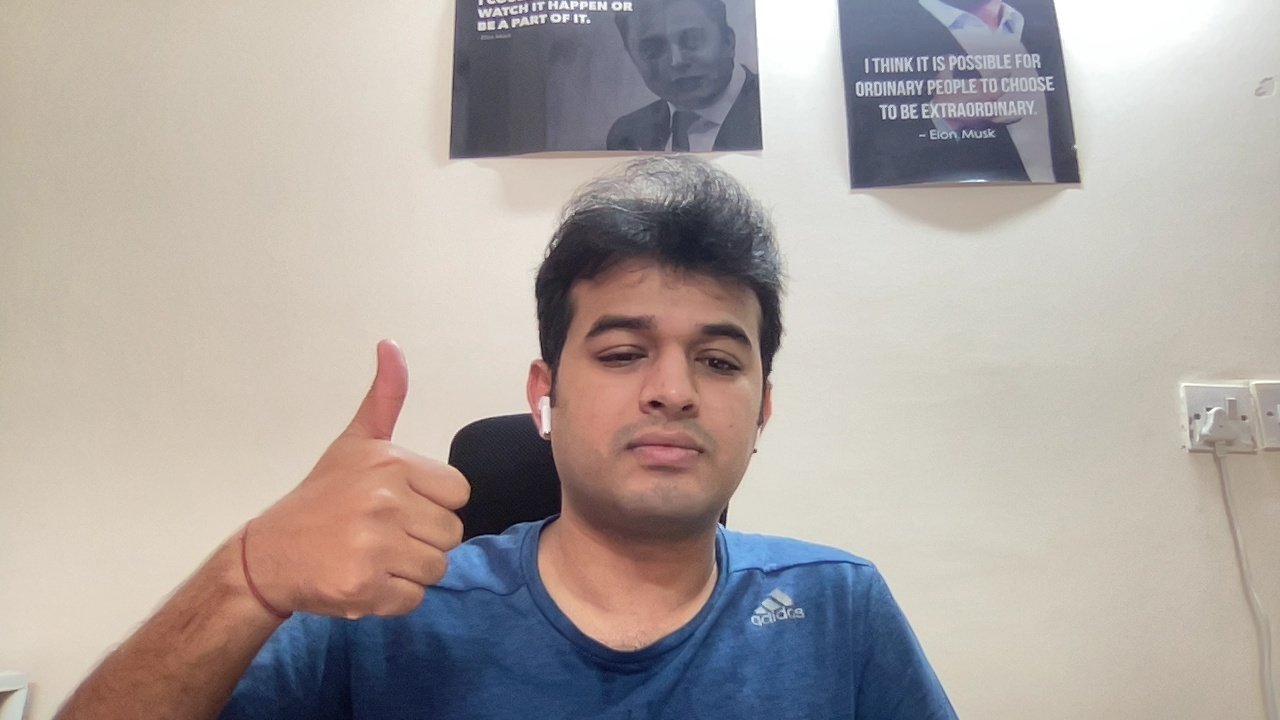up: (293, 330, 479, 625)
